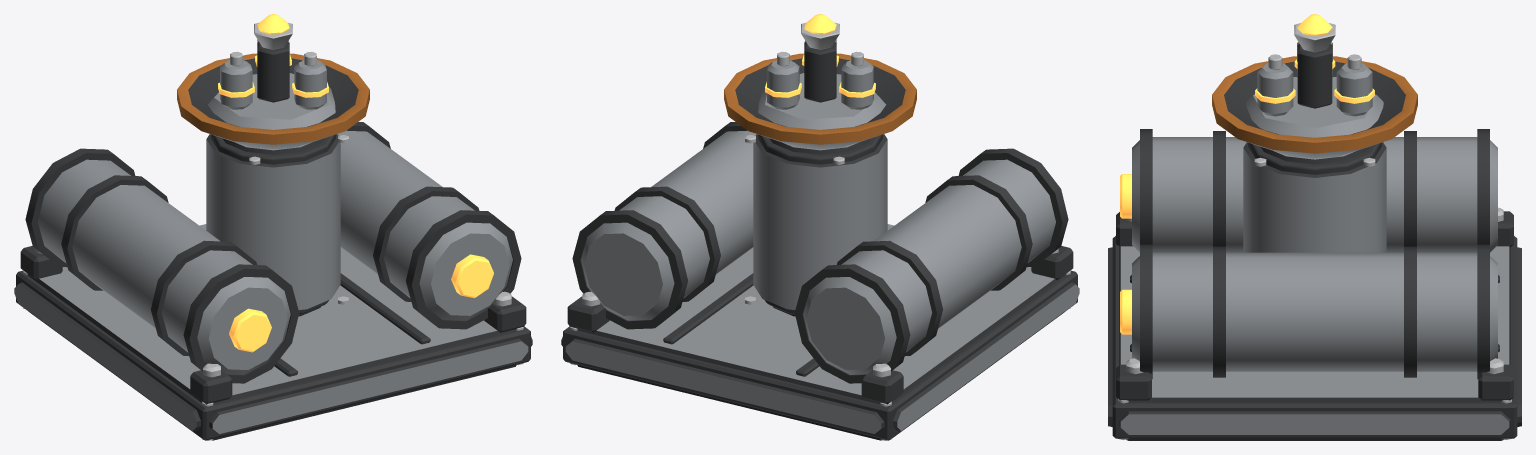
The model's file is R4X_BurnTrapDeployer.fbx.
3 views of the same model, side by side, from view 1: azimuth 30°, elevation 25°; view 2: azimuth 150°, elevation 25°; view 3: azimuth 270°, elevation 25° (orthographic). The views are drawn at different scales.
Parts seen in each view (by area): view 1: R4X_BurnTrapDeployer_Body, R4X_BurnTrapDeployer_Payload; view 2: R4X_BurnTrapDeployer_Body, R4X_BurnTrapDeployer_Payload; view 3: R4X_BurnTrapDeployer_Body, R4X_BurnTrapDeployer_Payload.
Part boxes in pixels (left/top/right/bottom): R4X_BurnTrapDeployer_Body: left=14, top=53, right=532, bottom=440; R4X_BurnTrapDeployer_Payload: left=208, top=14, right=335, bottom=129; R4X_BurnTrapDeployer_Body: left=561, top=53, right=1079, bottom=440; R4X_BurnTrapDeployer_Payload: left=758, top=14, right=885, bottom=129; R4X_BurnTrapDeployer_Body: left=1108, top=56, right=1521, bottom=440; R4X_BurnTrapDeployer_Payload: left=1246, top=14, right=1383, bottom=137.
Size of the model in its own units: 0.52 by 0.476 by 0.52.
